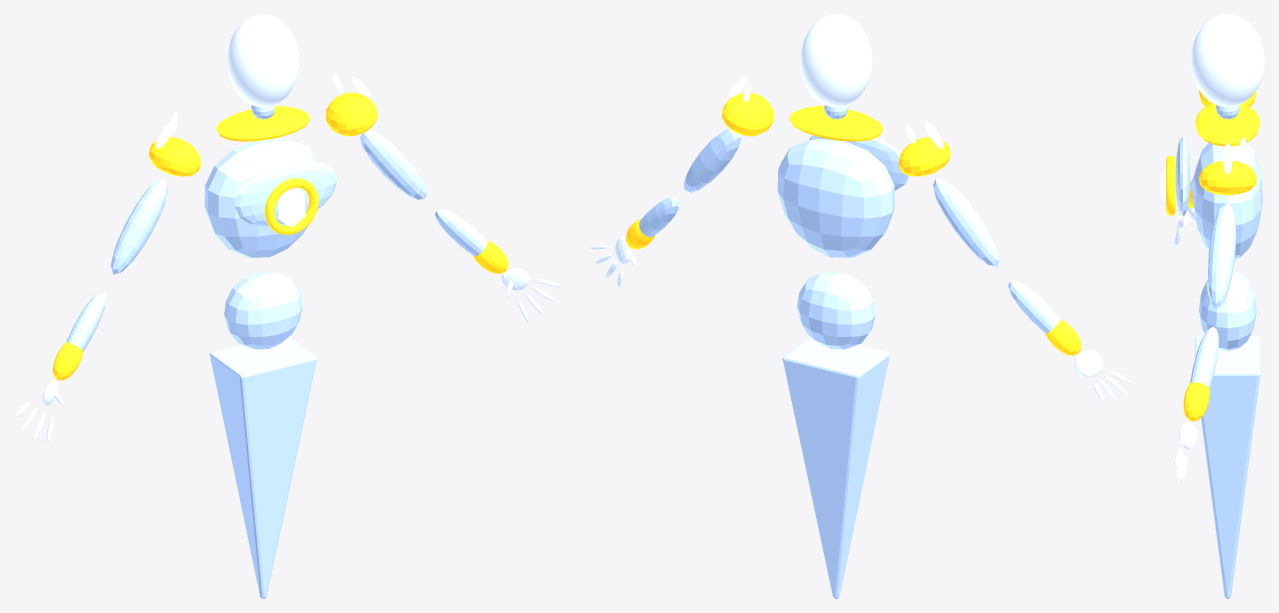
File: light_god_A.glb
3 renders of one model, left to right at view 1: azimuth 30°, elevation 25°; view 2: azimuth 150°, elevation 25°; view 3: azimuth 270°, elevation 25°, orthographic.
Visible parts, largest first — view 1: god_body, god_tail, god_head; view 2: god_body, god_tail, god_head; view 3: god_body, god_tail, god_head.
Boxes of the visible parts, box(x1,y1,x2,y2) form: god_body: box(14, 73, 561, 441); god_tail: box(209, 337, 316, 598); god_head: box(227, 14, 299, 107); god_body: box(590, 77, 1131, 402); god_tail: box(782, 337, 889, 598); god_head: box(800, 14, 872, 107); god_body: box(1160, 90, 1262, 483); god_tail: box(1195, 336, 1260, 598); god_head: box(1190, 14, 1264, 107).
Bounding box in the file's own units: 2.09 × 2.14 × 0.3492.
